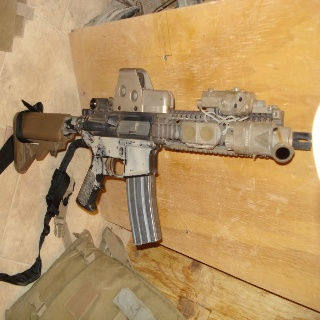rifle: (11, 64, 316, 247)
